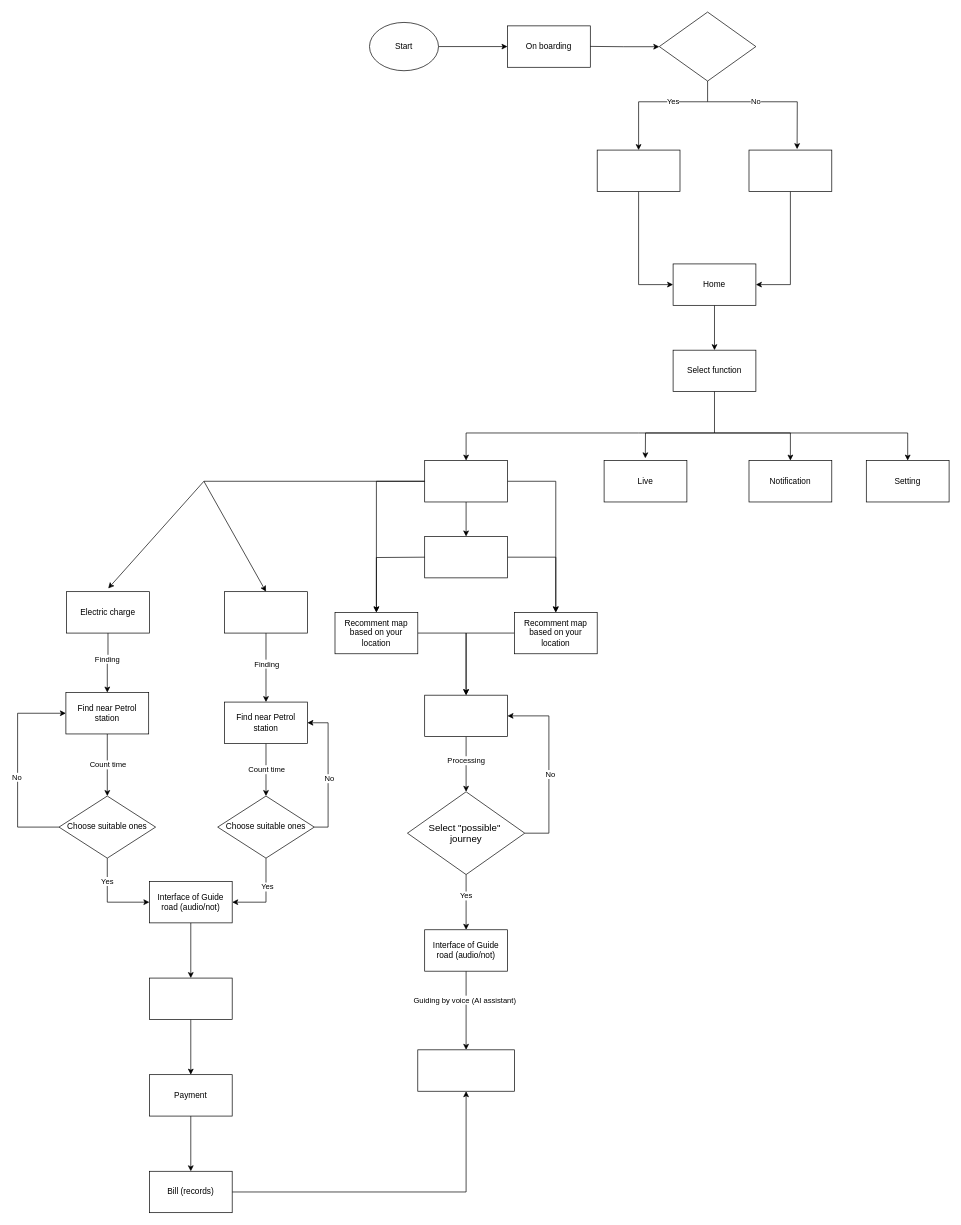
The diagram is 961 pixels wide and 1225 high, and some of its shapes have lost their labels. Each missing label, with the box of its shape:
Already have account ?: (659, 11, 756, 81)
Choose "from" and "to" location: (424, 694, 507, 737)
Fill Petrol: (224, 591, 307, 633)
Level of traffic jam: (424, 536, 507, 578)
Purchase amount of Gas/ Petrol/ electric: (149, 977, 232, 1019)
Search: (424, 460, 507, 502)
Sign In: (597, 149, 680, 191)
Sign up: (748, 149, 832, 191)
Success Back to Homepage: (417, 1049, 514, 1091)
